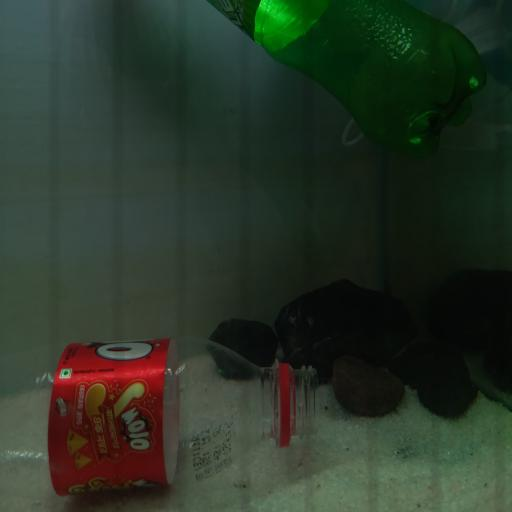plastic_bottle: (0, 340, 318, 499), (204, 0, 487, 159)
